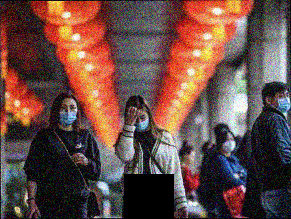with_mask: (56, 101, 79, 127), (272, 89, 291, 114), (130, 112, 150, 133), (221, 137, 237, 154)
